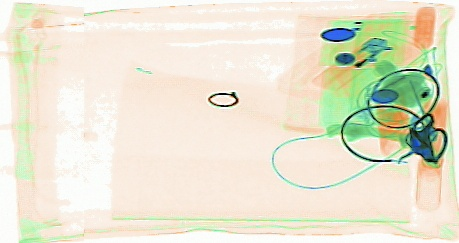lighter: (308, 36, 393, 93)
